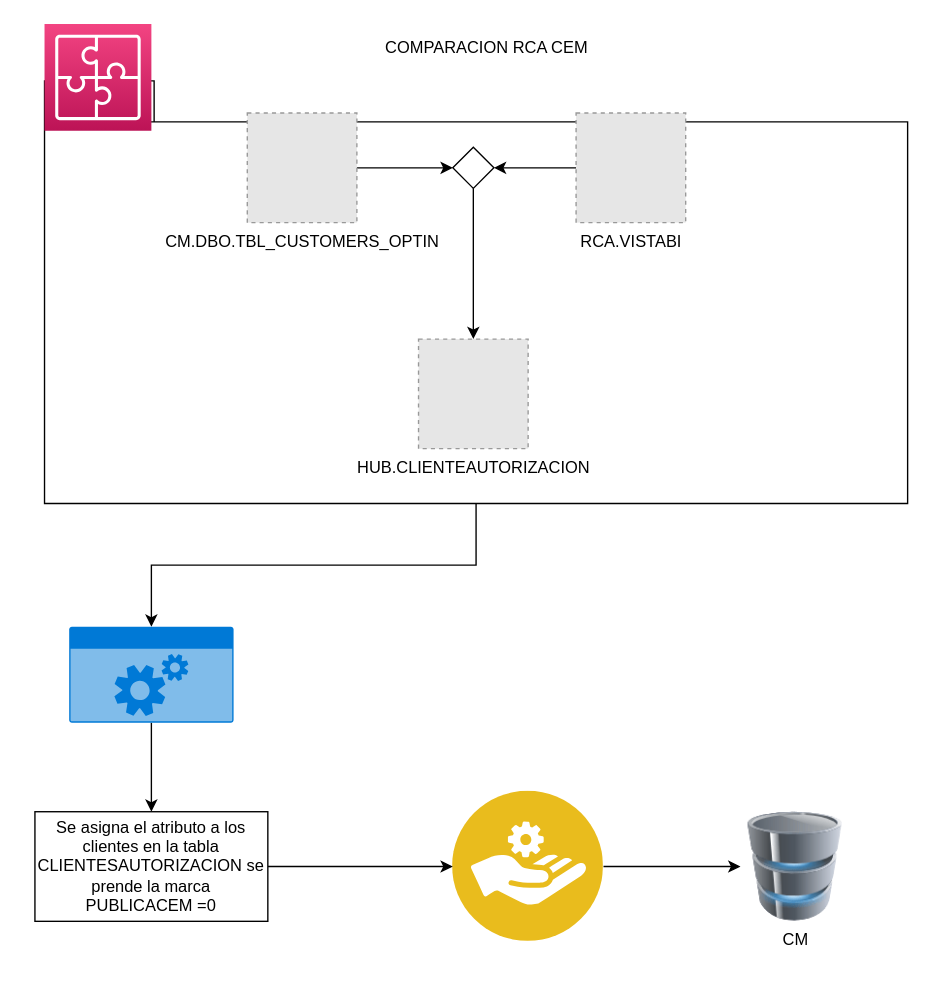
This 932x999 diagram has some shape labels left out. Grey dashed boxes stand in for pictures. The centre of each missing label's shape, as x and y in pixels:
Services HUBDATOS: the point at 150,674
SSIS OPTIN CAJAS: the point at 97,77
UPDATECUSTOMER: the point at 527,865
